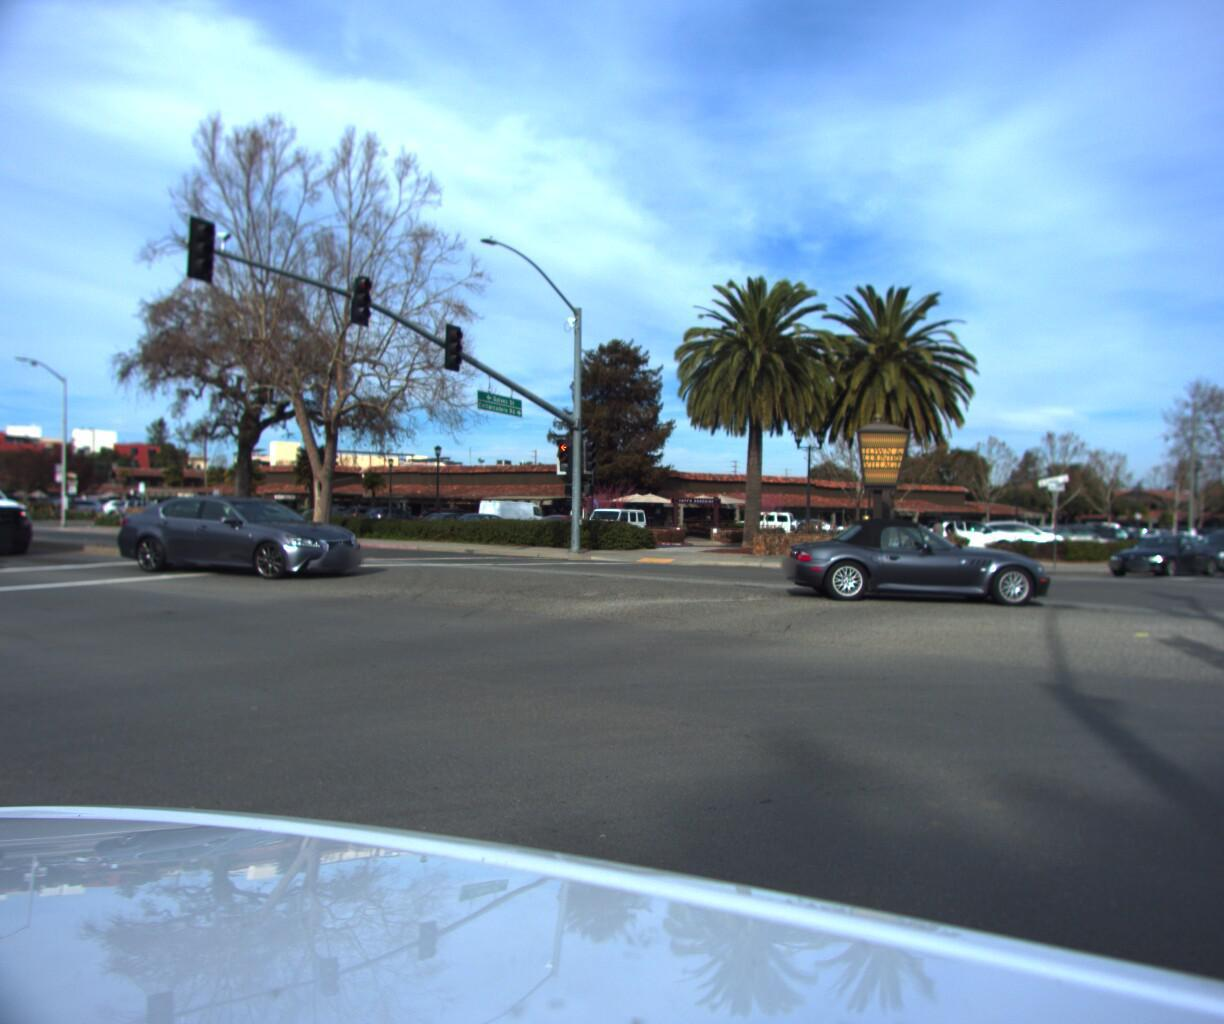car: (775, 513, 1063, 606), (110, 497, 377, 583), (1090, 527, 1223, 579), (0, 466, 48, 559), (917, 515, 1026, 552), (578, 505, 667, 550), (972, 516, 1075, 551), (1169, 525, 1224, 570), (1201, 525, 1224, 580)
